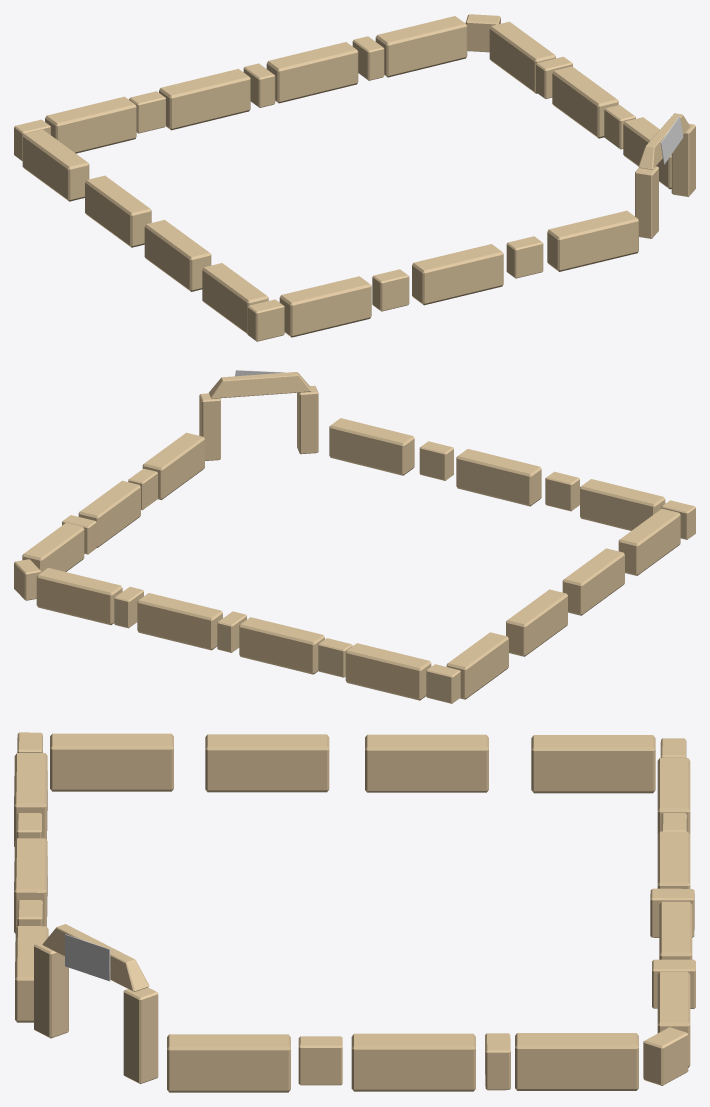
Rendered from zoo_4_i.glb.
The picture shows the model from 3 angles, top to bottom: view 1: azimuth 30°, elevation 25°; view 2: azimuth 150°, elevation 25°; view 3: azimuth 270°, elevation 25°; orthographic projection. The views are drawn at different scales.
Parts seen in each view (by area): view 1: zoo_4_intact; view 2: zoo_4_intact; view 3: zoo_4_intact.
Part boxes in pixels (bbox=[...]): zoo_4_intact: bbox=[14, 14, 695, 341]; zoo_4_intact: bbox=[14, 370, 695, 703]; zoo_4_intact: bbox=[14, 732, 695, 1092].
Bounding box in the file's own units: 45.63 × 8.2 × 41.17.
